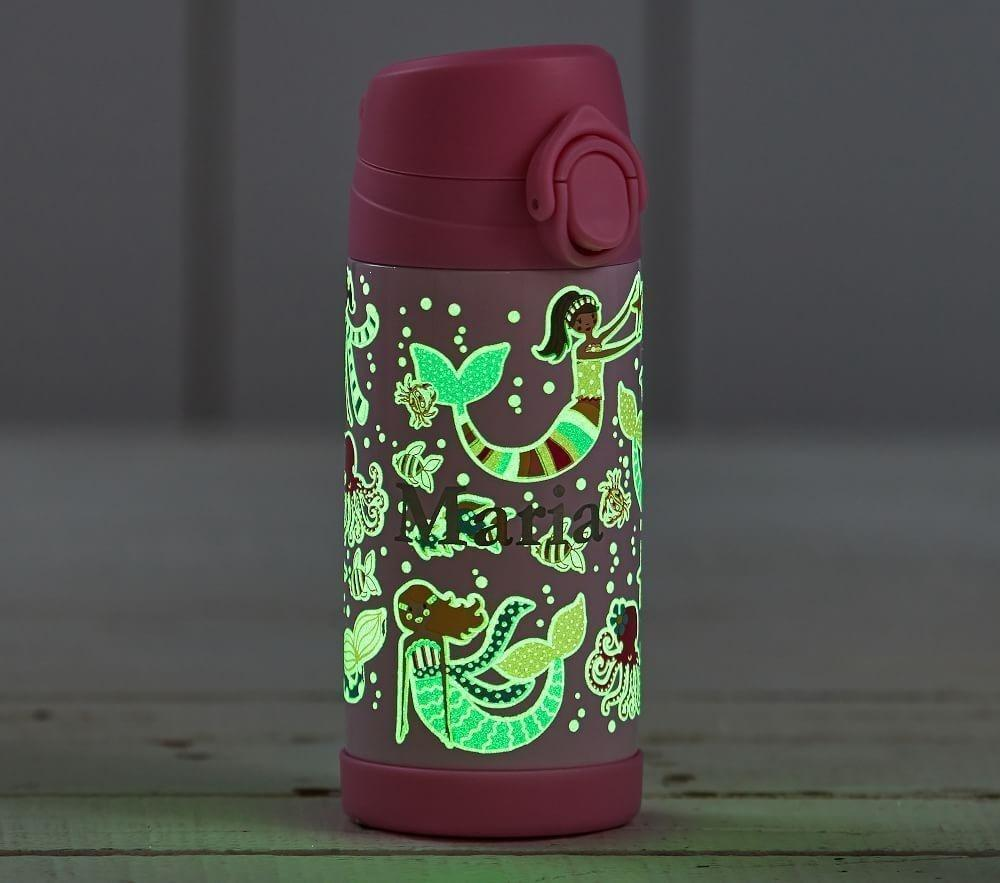gym bottle: (336, 40, 650, 841)
